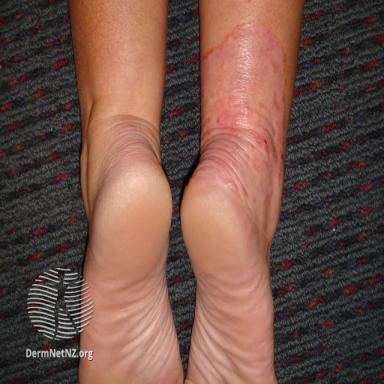Tinea-Corporis: (194, 25, 287, 206)
